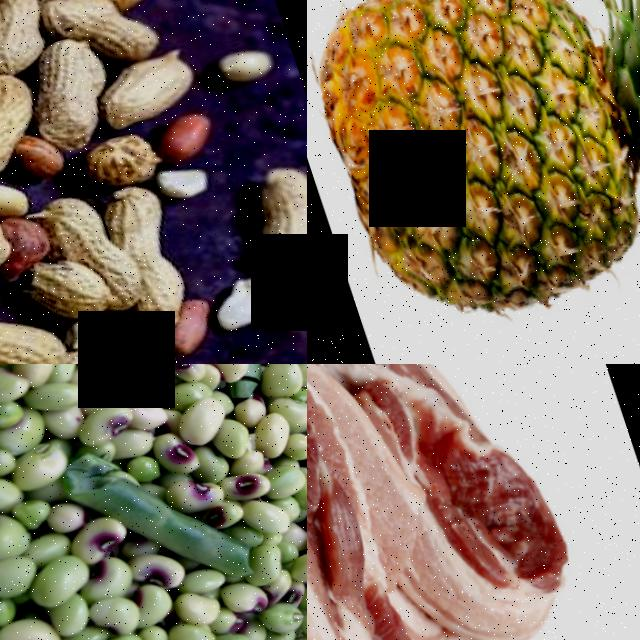peanuts: (98, 169, 191, 312), (20, 46, 112, 155), (99, 41, 208, 129), (232, 144, 307, 268), (19, 240, 118, 326), (48, 316, 183, 364), (77, 118, 165, 191), (149, 100, 222, 163), (0, 293, 62, 364), (57, 295, 134, 352), (0, 0, 52, 81), (0, 92, 21, 180)
pineapple: (307, 0, 640, 364)
pork belly: (307, 364, 595, 640), (307, 364, 469, 640)
